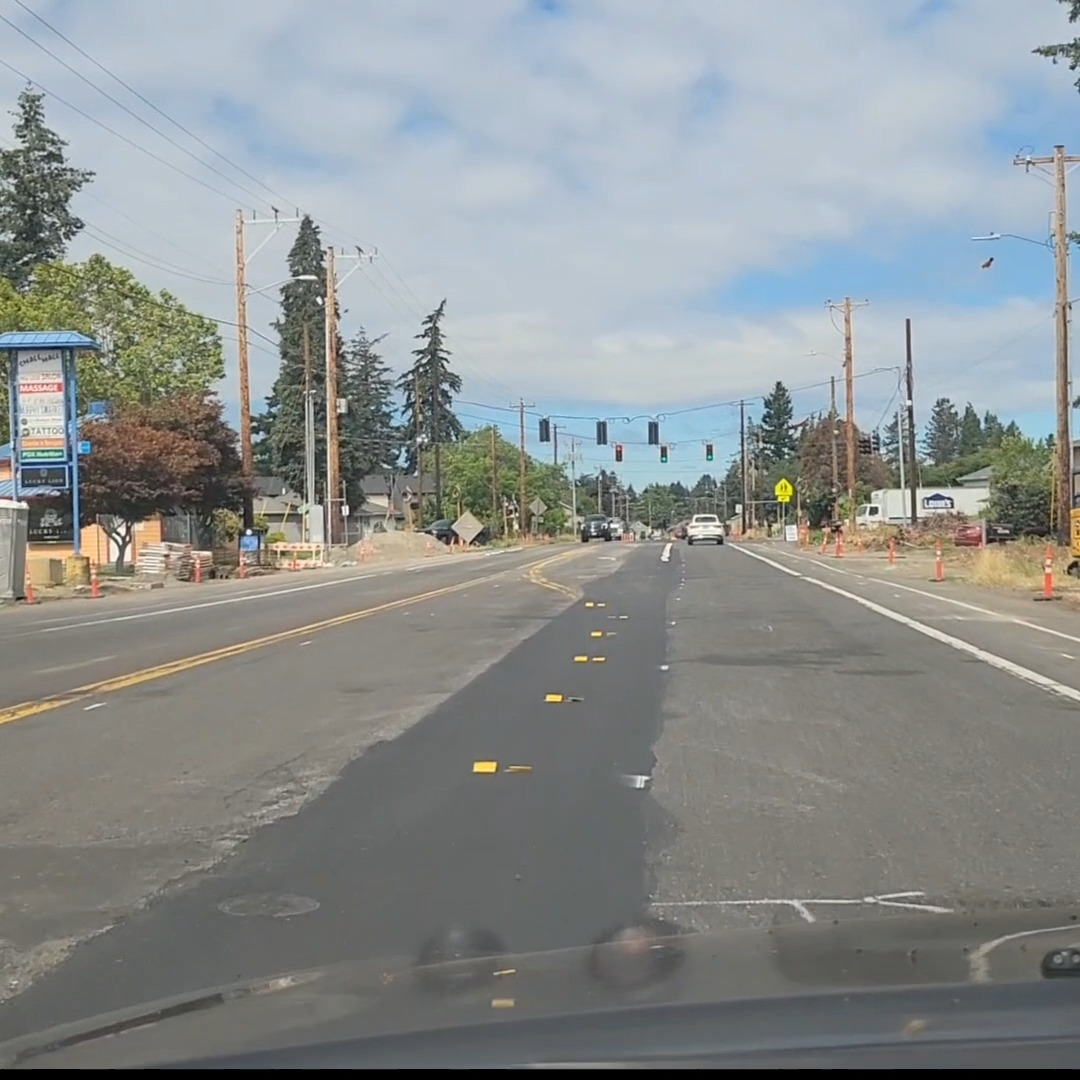car: (422, 517, 487, 546), (952, 520, 1014, 546), (683, 514, 725, 545), (578, 515, 612, 545), (603, 518, 624, 540), (669, 520, 690, 538)
crosswalk-sign: (774, 478, 792, 502)
delineator: (1040, 547, 1055, 598), (930, 538, 945, 582), (23, 569, 39, 604), (89, 561, 100, 598), (834, 531, 844, 558), (819, 529, 829, 553), (193, 556, 202, 582), (887, 535, 895, 564), (236, 555, 246, 578), (357, 541, 367, 562), (800, 527, 810, 546), (853, 530, 861, 549), (445, 537, 454, 553), (425, 539, 432, 553)
